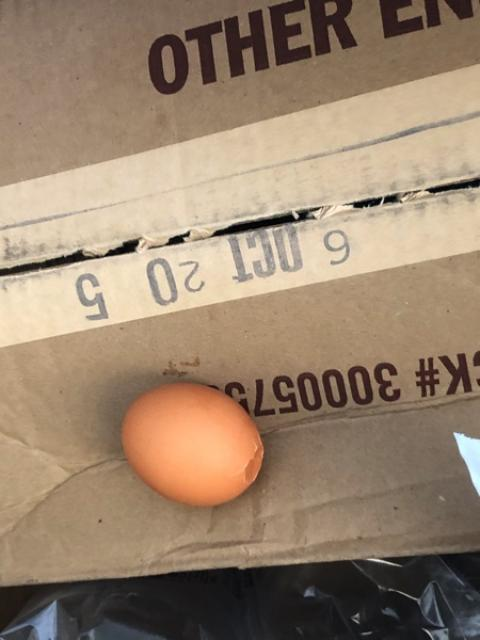Roto: (119, 380, 265, 508)
